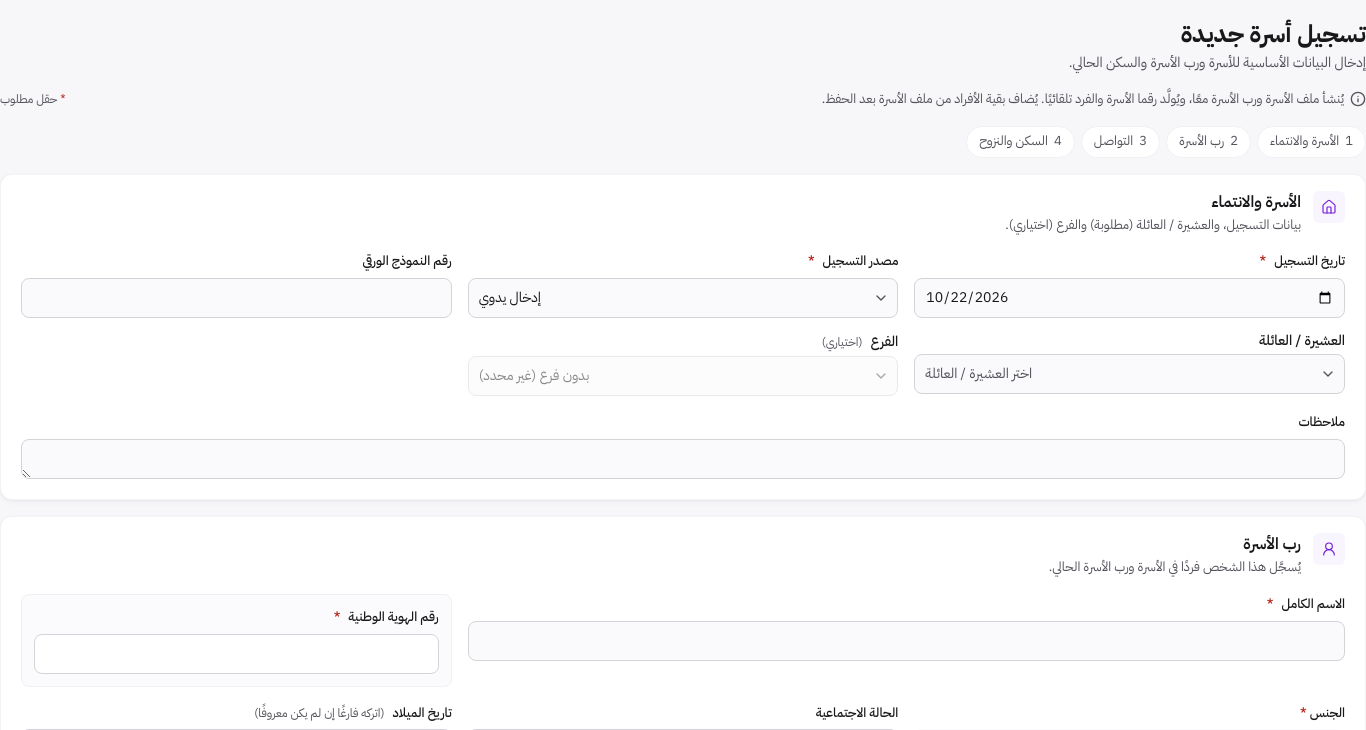
Staff family registration › lists the safe references of a described duplicate
The width and height of the screenshot is (1366, 730).
In the field labelled "رقم الهوية الوطنية *": (236, 654) [34,634,439,674], type "401234567"
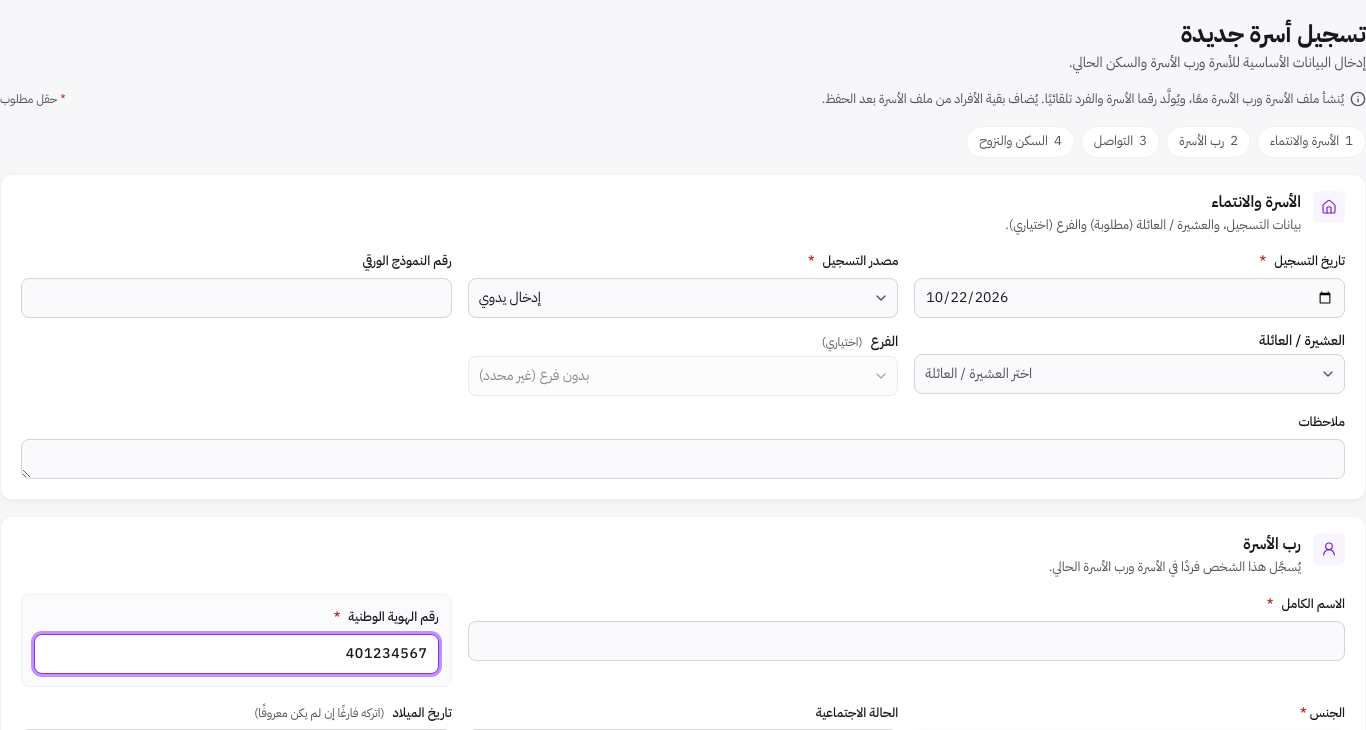
Press Tab
(page scrolled)
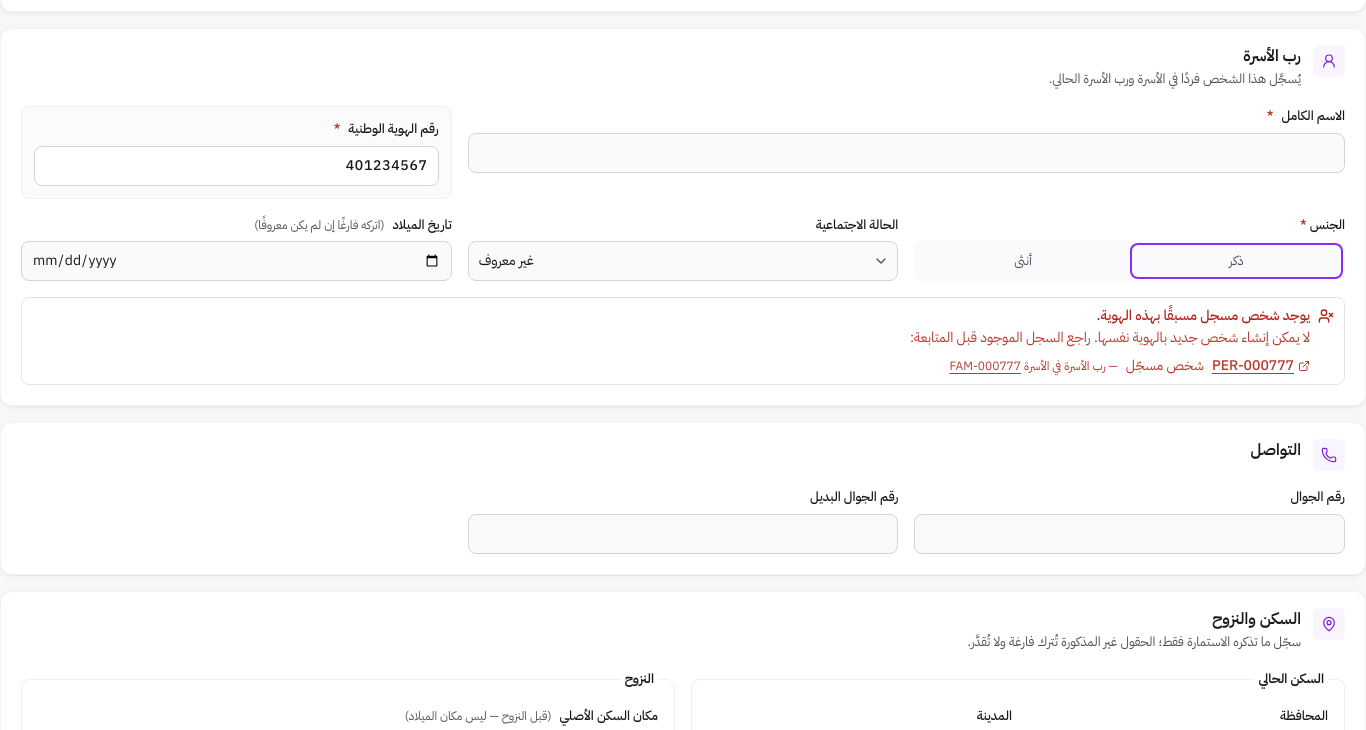
Expected: the link "PER-000777" is shown, [1212,356,1310,376]
